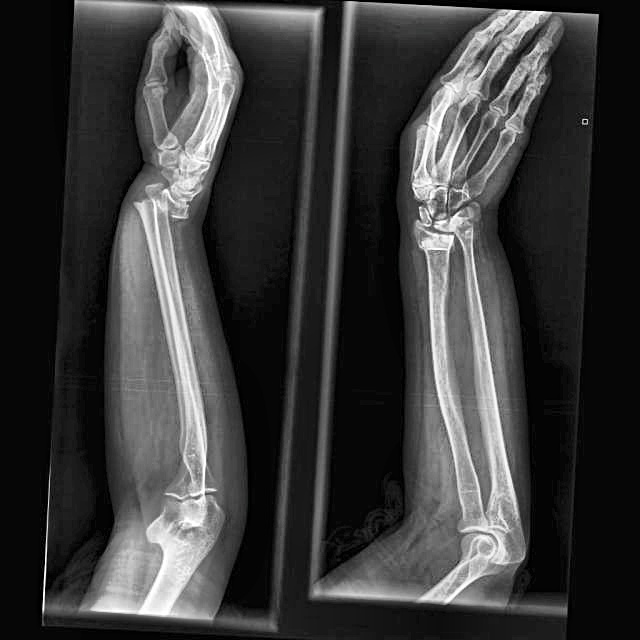Transverse: (120, 167, 212, 235)
